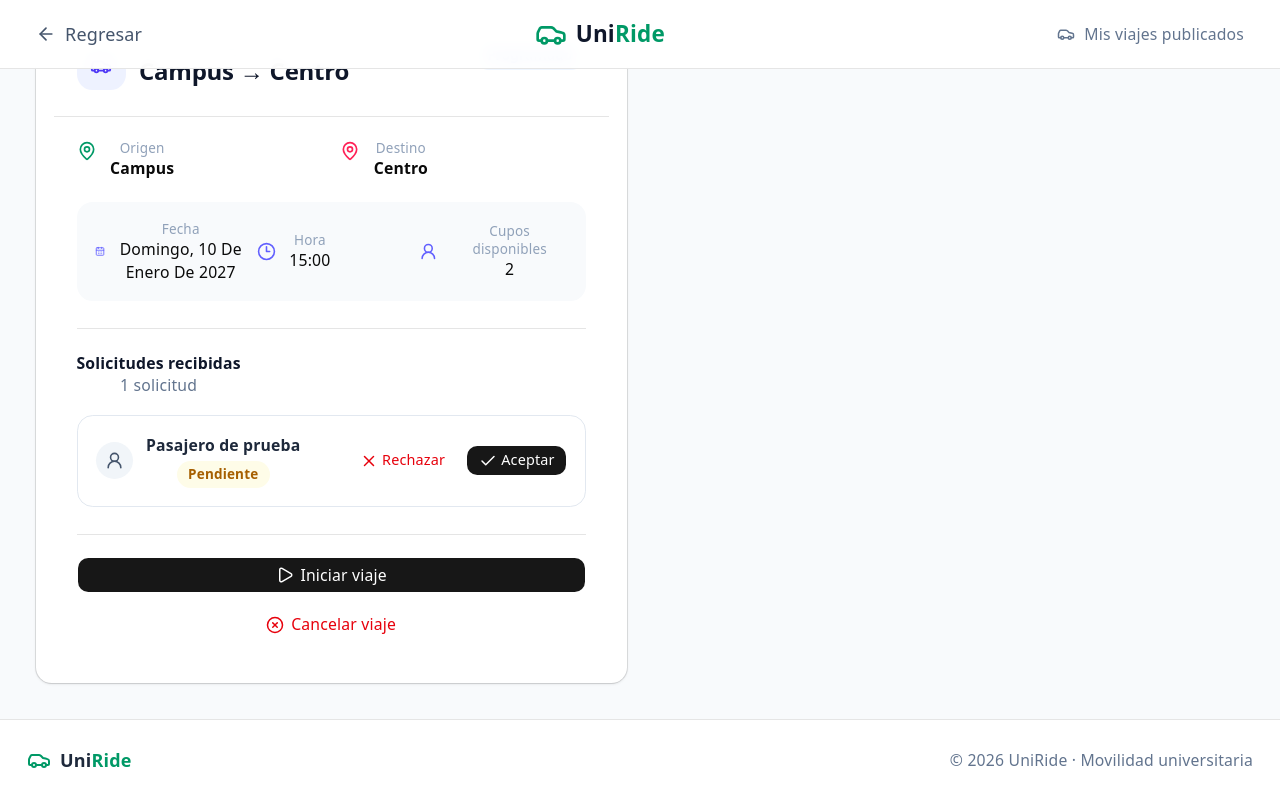
MisViajes: respuesta a solicitudes › Rechazar envía el estado al backend y actualiza la solicitud
This screenshot has width=1280, height=800.
(page scrolled)
Click the button "Rechazar" at (402, 461), box [347,445,458,476]
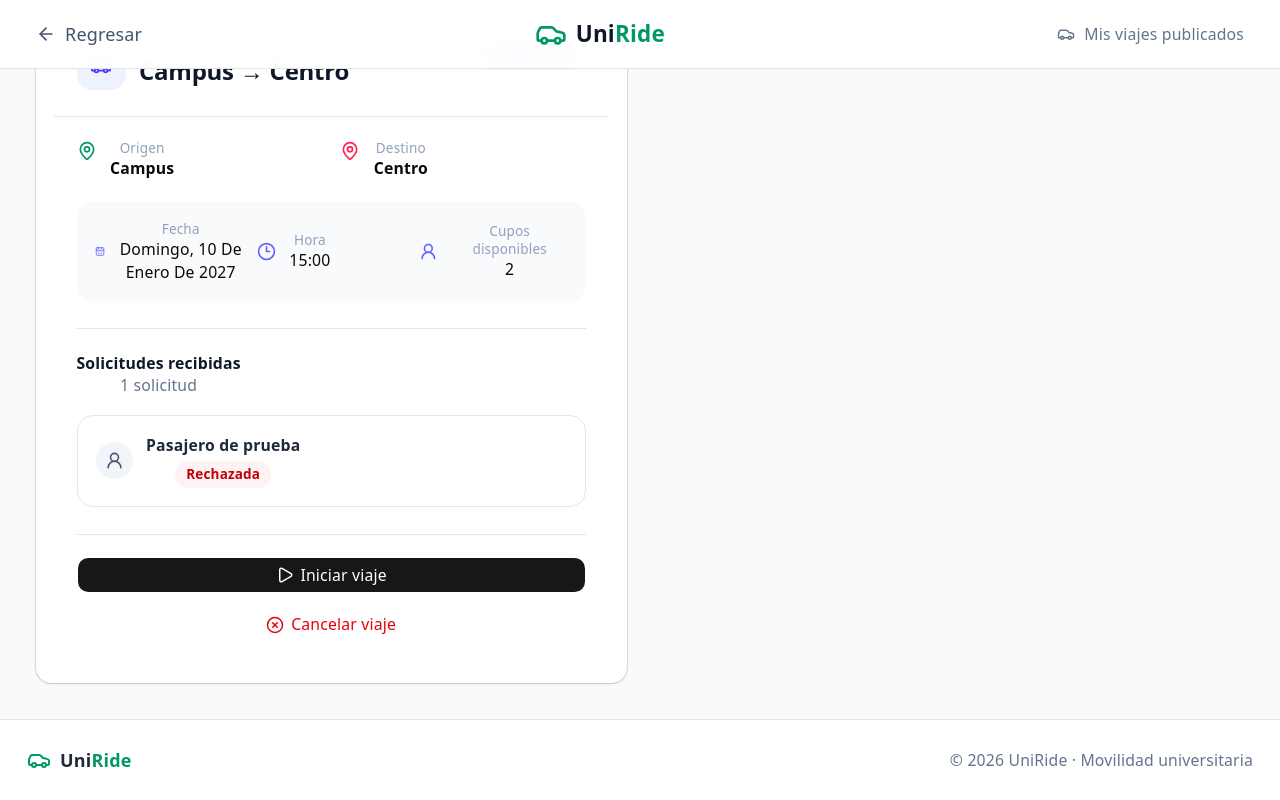
Check: the text "Rechazada" is shown, box [175,461,271,488]
